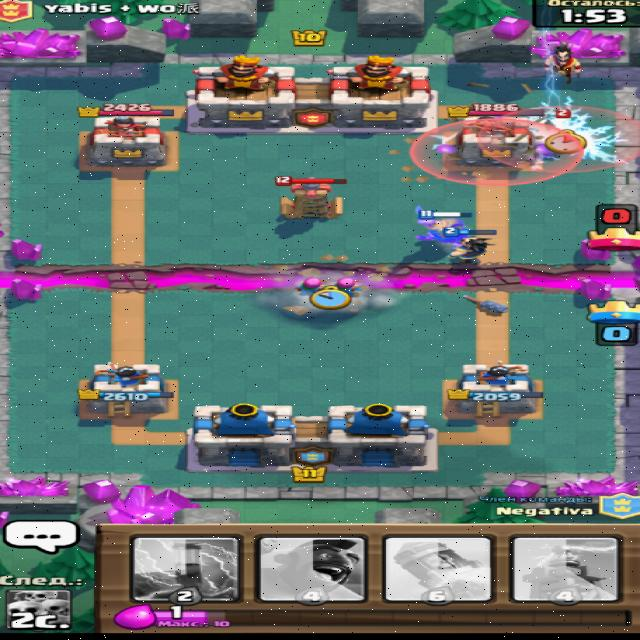Enemy-ElectroWizard: (543, 36, 581, 85)
Enemy-Tesla: (271, 174, 348, 221)
Player-Archer: (292, 276, 328, 297), (328, 277, 364, 298)
Player-ElectroWizard: (441, 227, 498, 266)
Player-Knight: (412, 202, 472, 242)
